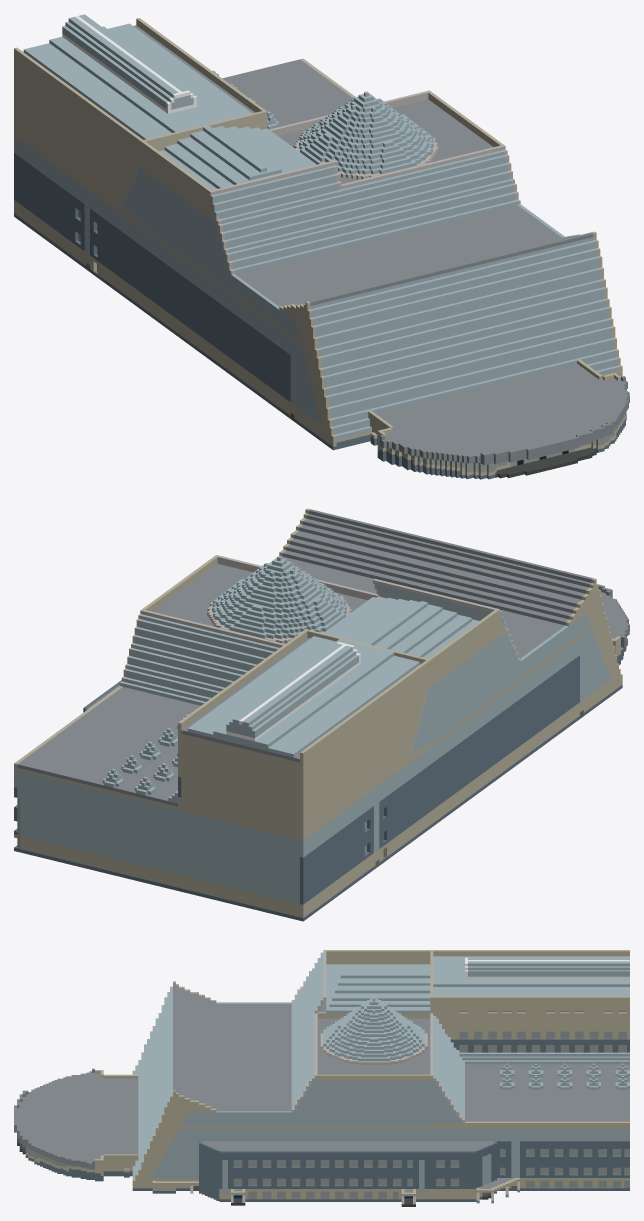
The model's file is korabl.glb.
3 views of the same model, one above another, from view 1: azimuth 30°, elevation 25°; view 2: azimuth 150°, elevation 25°; view 3: azimuth 270°, elevation 25° (orthographic). The views are drawn at different scales.
Parts seen in each view (by area): view 1: korabl; view 2: korabl; view 3: korabl.
Part boxes in pixels (<box>): korabl: <box>14,14,629,479</box>; korabl: <box>14,508,629,921</box>; korabl: <box>14,950,629,1206</box>.
Bounding box in the file's own units: 1.88 × 1.08 × 3.89.
1 material, 1 textured.
